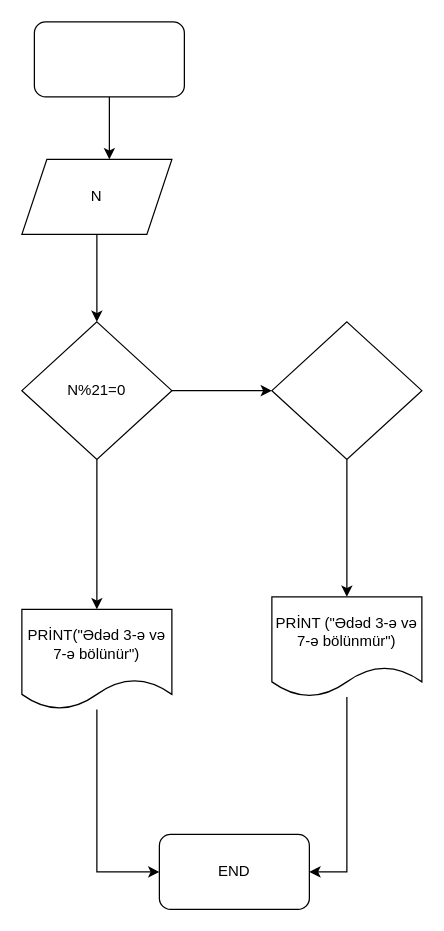
The diagram is 444 pixels wide and 931 high, and some of its shapes have lost their labels. The centre of each missing label's shape, as x and y in pixels:
"N%21!=0" goes at [346,390].
"Start" goes at [108,59].
